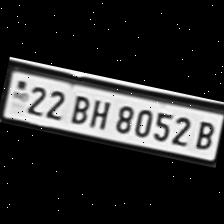0: (130, 104, 156, 139)
2: (39, 83, 68, 122), (167, 111, 194, 148), (22, 80, 48, 117)
5: (147, 107, 174, 144)
8: (108, 99, 135, 135)
B: (189, 116, 218, 152), (64, 90, 92, 126)
H: (85, 95, 114, 131)
